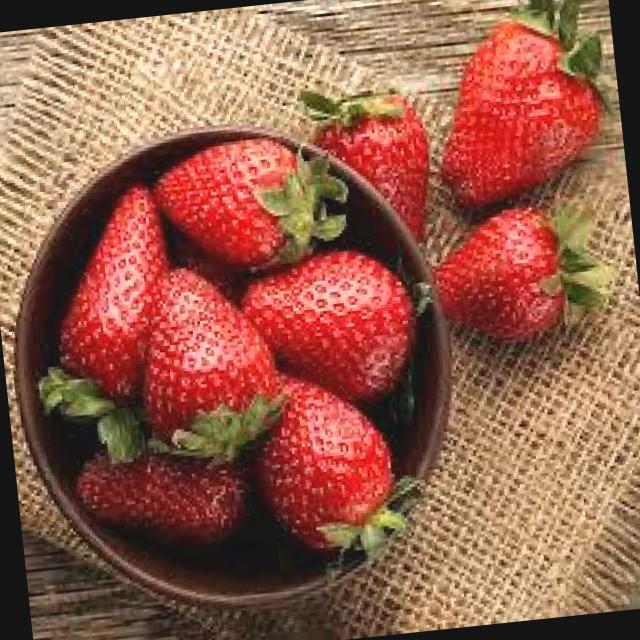strawberry: (28, 160, 174, 436), (422, 0, 619, 204), (243, 360, 398, 575), (421, 192, 614, 359), (252, 226, 438, 399), (127, 253, 277, 462), (156, 136, 334, 272)
